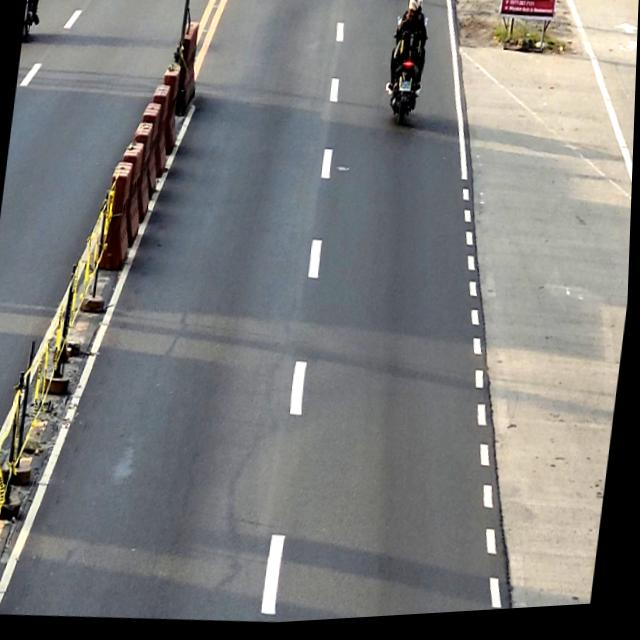License-Plate: (398, 84, 411, 97)
Motorcycle: (384, 17, 429, 133)
